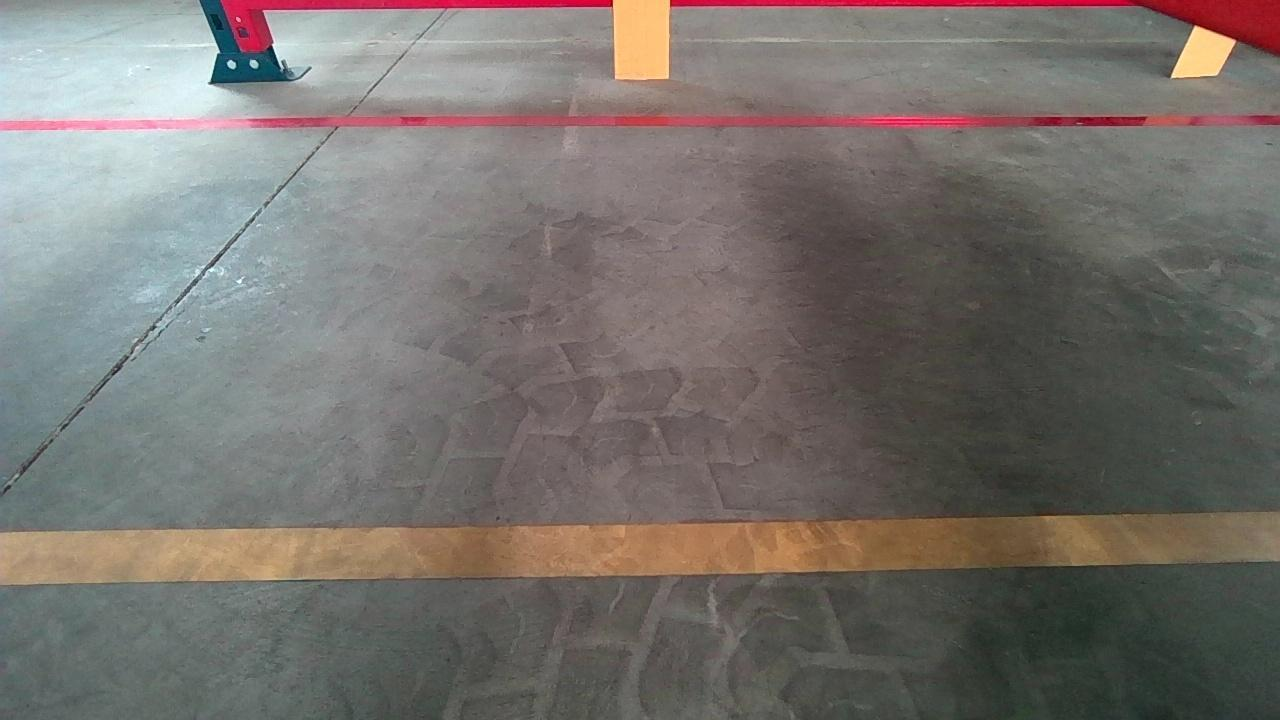orange_strip: (613, 1, 671, 77), (1170, 22, 1239, 77)
red_line: (7, 108, 1268, 139)
yellow_line: (7, 510, 1268, 588)
